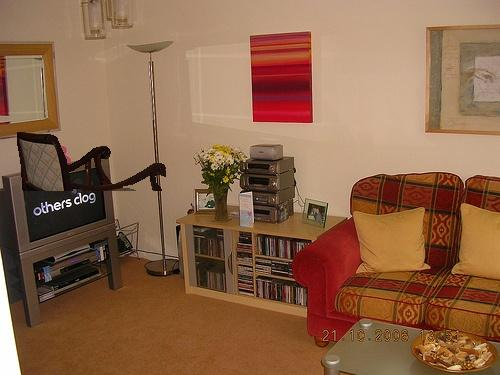tampered: (18, 133, 166, 191)
